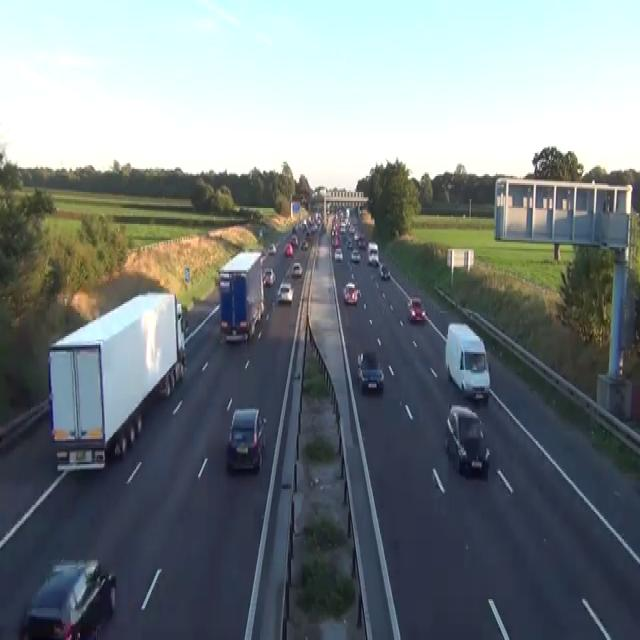Car: (25, 556, 116, 638), (444, 404, 490, 474), (226, 407, 266, 471), (356, 350, 384, 391), (407, 297, 425, 322), (343, 281, 360, 304), (176, 302, 188, 334), (277, 283, 294, 302), (262, 267, 275, 286), (55, 292, 70, 306), (291, 262, 302, 278), (380, 263, 390, 279), (334, 247, 343, 261), (284, 242, 293, 256), (357, 235, 366, 249), (350, 249, 360, 261), (258, 226, 268, 236), (368, 242, 378, 252), (268, 242, 276, 254), (290, 233, 298, 245), (332, 237, 340, 247), (339, 222, 346, 233), (300, 240, 308, 249), (346, 237, 352, 247), (300, 196, 307, 204), (258, 228, 262, 236)
Truck: (47, 290, 187, 471), (218, 249, 264, 343), (445, 322, 490, 400)
